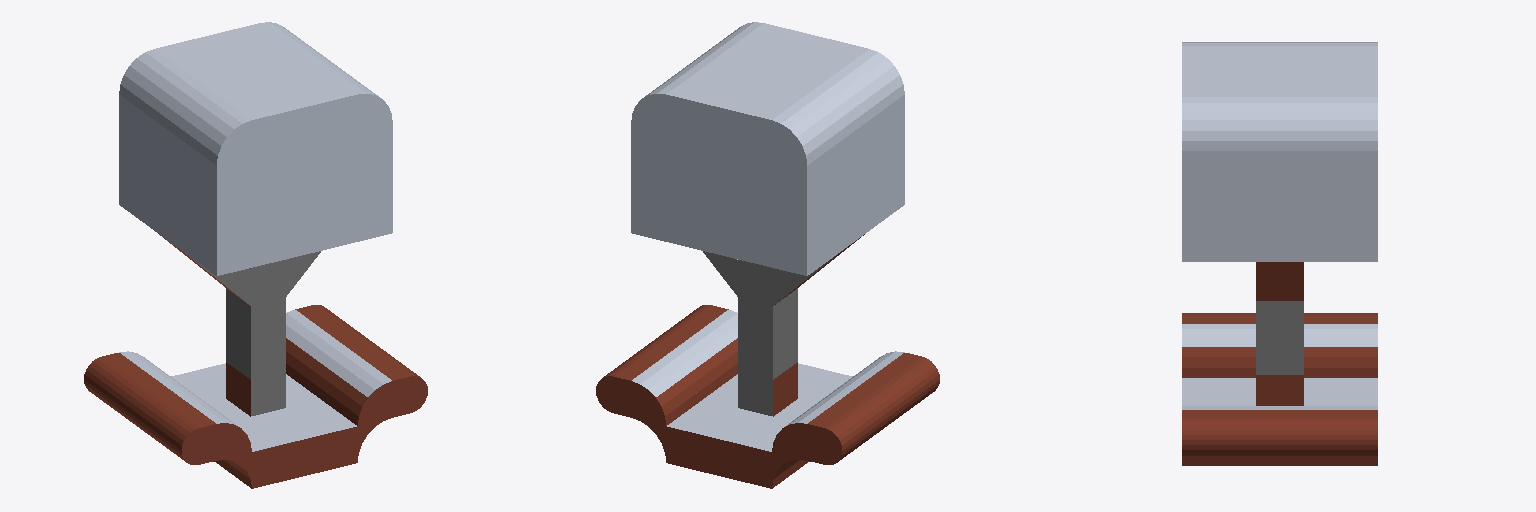
The picture shows the model from 3 angles: view 1: azimuth 30°, elevation 25°; view 2: azimuth 150°, elevation 25°; view 3: azimuth 270°, elevation 25°; orthographic projection.
Size of the model in its own units: 7 by 10 by 4.8.
Materials: 1 (1 with a texture image).